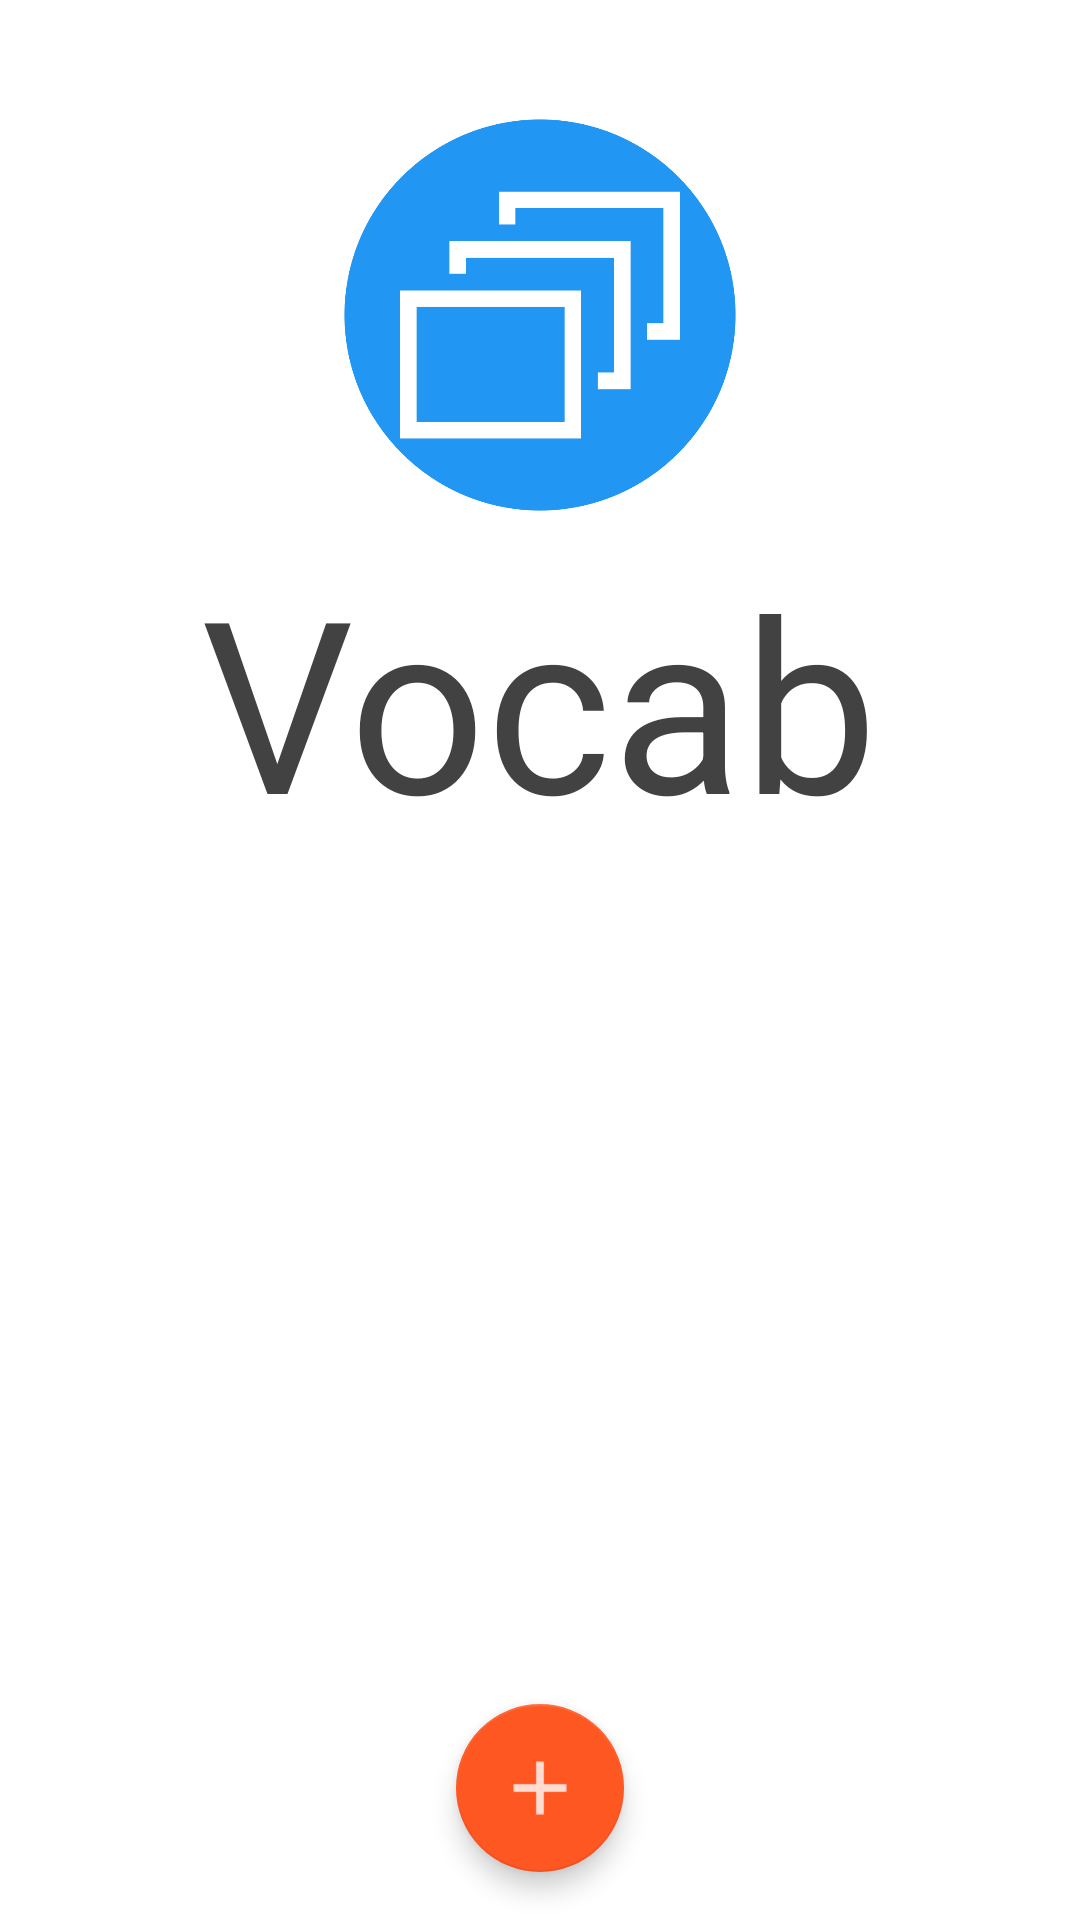

Icons on this 1080×1920 Android screen, each with the point to tap as (x=x, y=y):
add: (x=540, y=1788)
